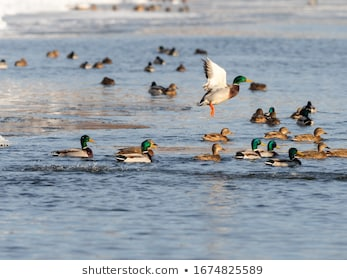duck: (191, 52, 261, 126), (38, 123, 110, 171), (112, 130, 172, 171), (262, 144, 311, 177), (231, 135, 268, 170)
